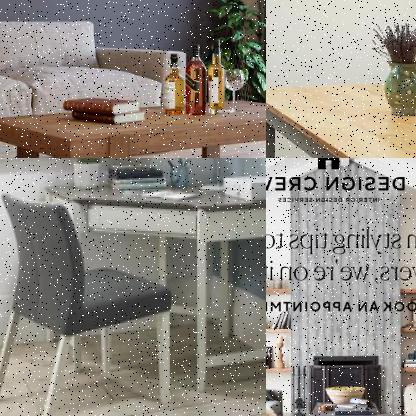table: (41, 174, 265, 399), (0, 87, 265, 157), (266, 72, 415, 157), (306, 392, 389, 415)
